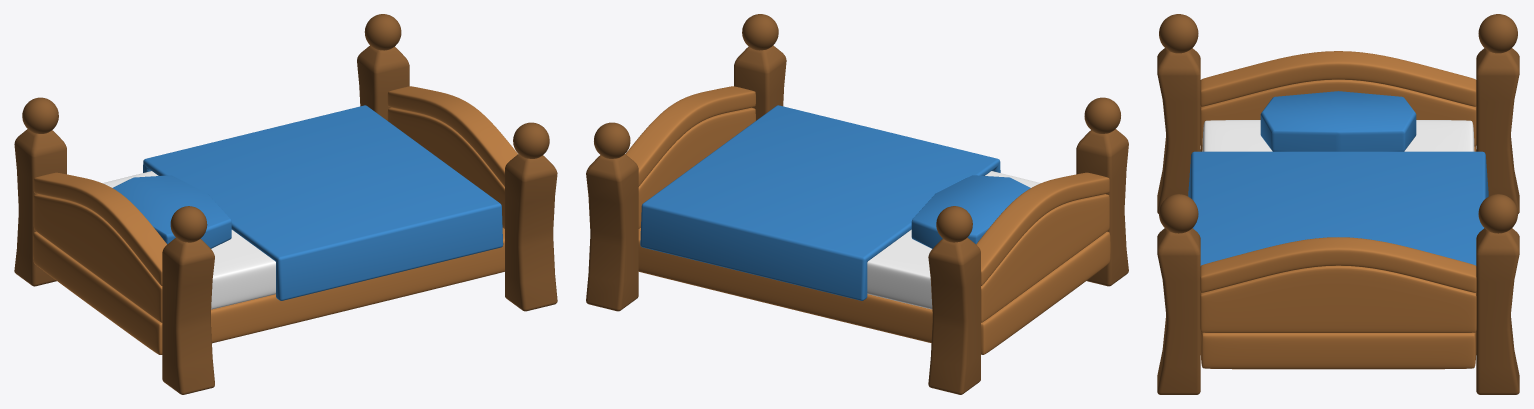
Rendered from single_bed.obj.
The picture shows the model from 3 angles, left to right: view 1: azimuth 30°, elevation 25°; view 2: azimuth 150°, elevation 25°; view 3: azimuth 270°, elevation 25°; orthographic projection. The views are drawn at different scales.
Visible parts, largest first — view 1: single_bed; view 2: single_bed; view 3: single_bed.
Boxes of the visible parts, left/top/right/bottom form: single_bed: left=14, top=14, right=557, bottom=394; single_bed: left=586, top=14, right=1128, bottom=394; single_bed: left=1157, top=14, right=1519, bottom=394.
Size of the model in its own units: 1.79 by 0.7928 by 1.36.
